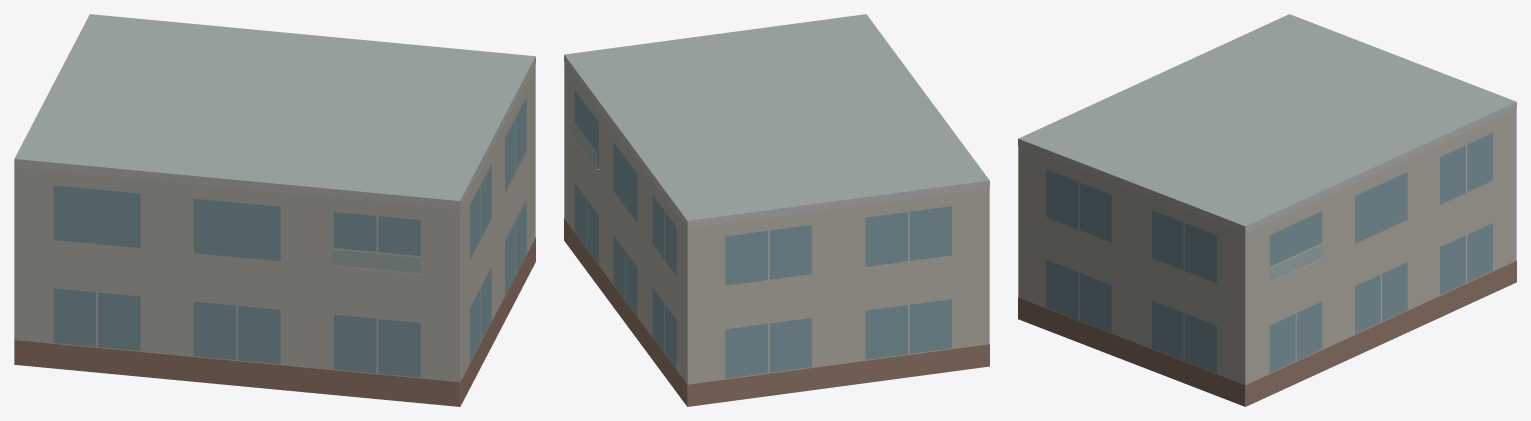
The model's file is survey-upis-32708073.glb.
3 views of the same model, side by side, from view 1: azimuth 30°, elevation 25°; view 2: azimuth 150°, elevation 25°; view 3: azimuth 270°, elevation 25° (orthographic). The views are drawn at different scales.
Parts seen in each view (by area): view 1: survey-upis-32708073.tmp; view 2: survey-upis-32708073.tmp; view 3: survey-upis-32708073.tmp.
Part boxes in pixels (x1,y1,x2,y2): survey-upis-32708073.tmp: [14, 14, 535, 406]; survey-upis-32708073.tmp: [564, 14, 989, 406]; survey-upis-32708073.tmp: [1018, 14, 1516, 406].
Bounding box in the file's own units: 15.4 × 6.1 × 15.28.
